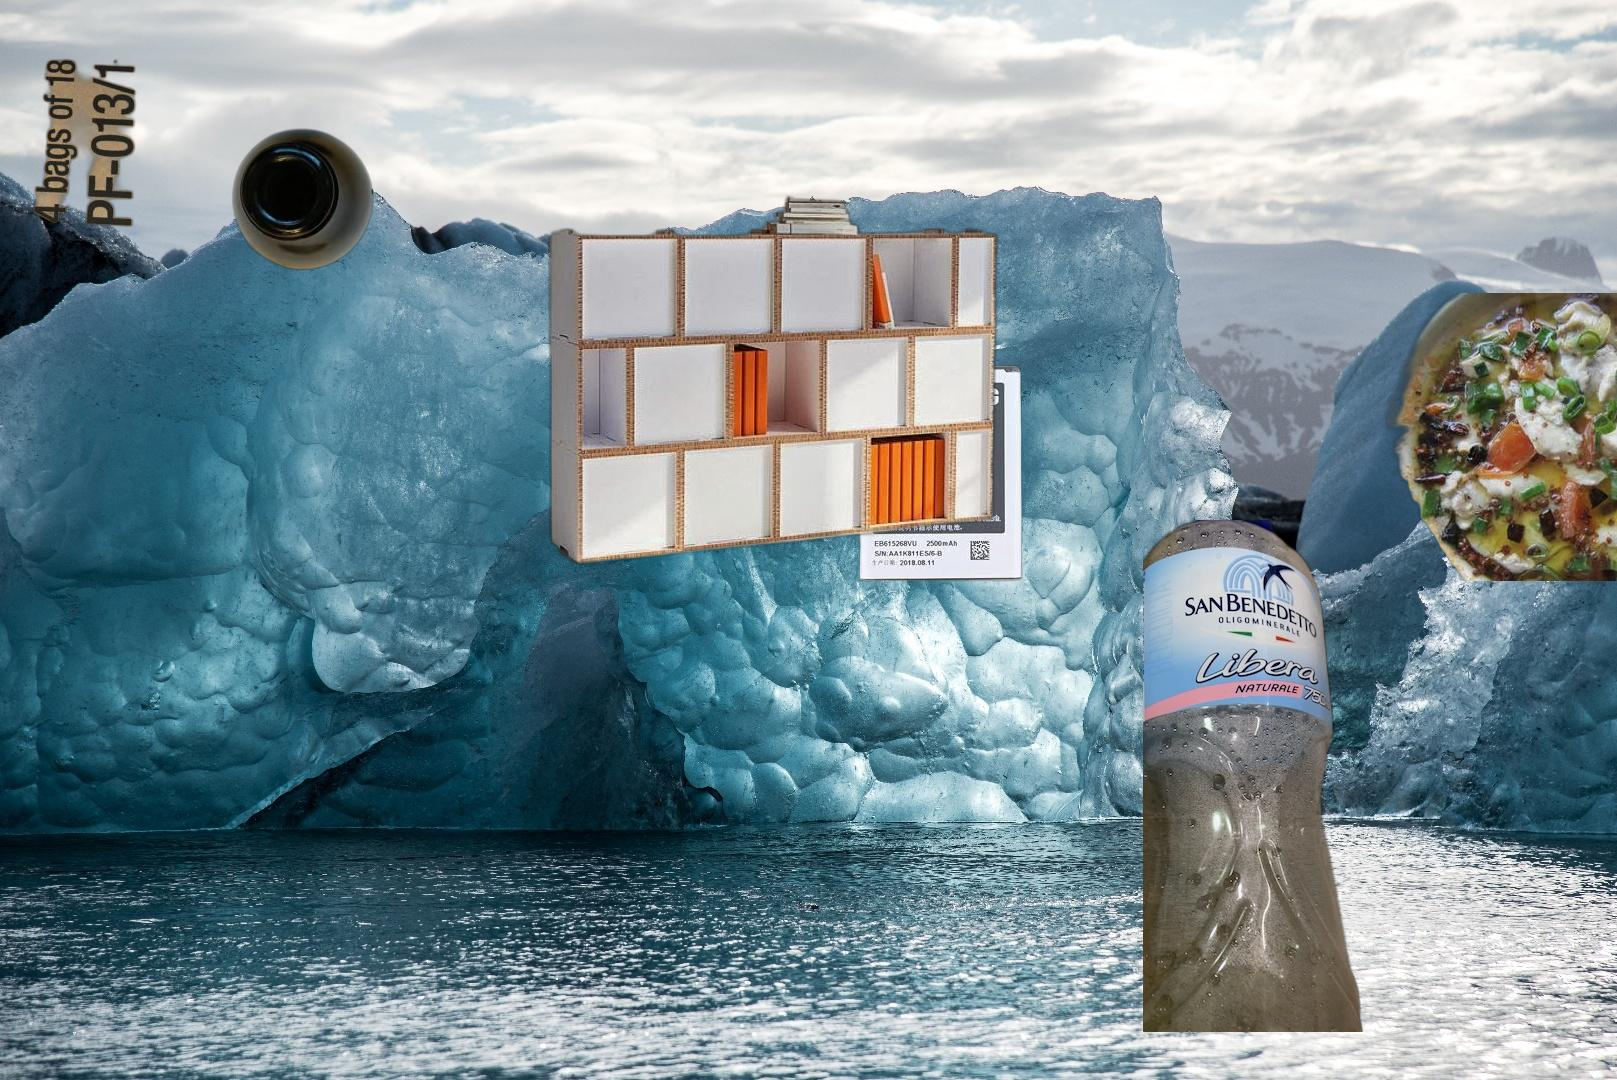battery: (852, 363, 1025, 585)
biological: (1380, 293, 1617, 581)
glass: (229, 127, 377, 272)
plastic-bottles: (1143, 520, 1415, 1032)
trashbox-cardboard: (542, 192, 1002, 567), (29, 58, 140, 230)
